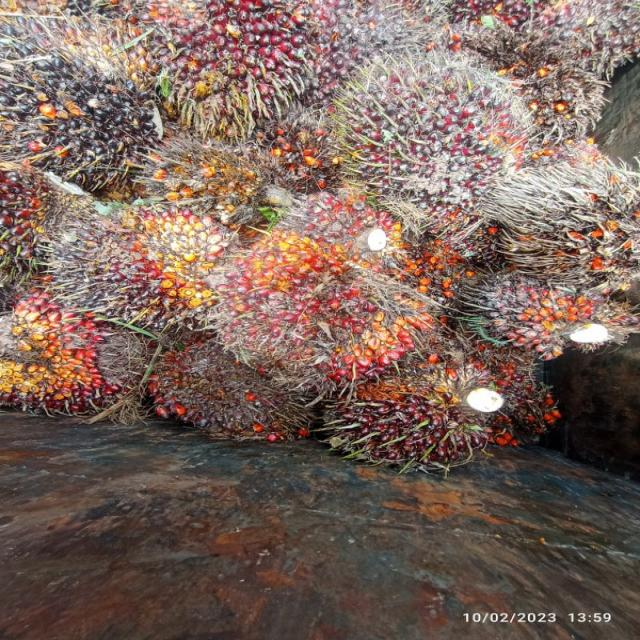fraksi 00: (17, 187, 258, 339), (440, 246, 640, 384), (1, 36, 175, 174)
fraksi 1: (327, 44, 548, 220), (308, 330, 541, 474), (155, 0, 321, 138), (0, 280, 132, 425)
fraksi 3: (192, 211, 427, 398)
